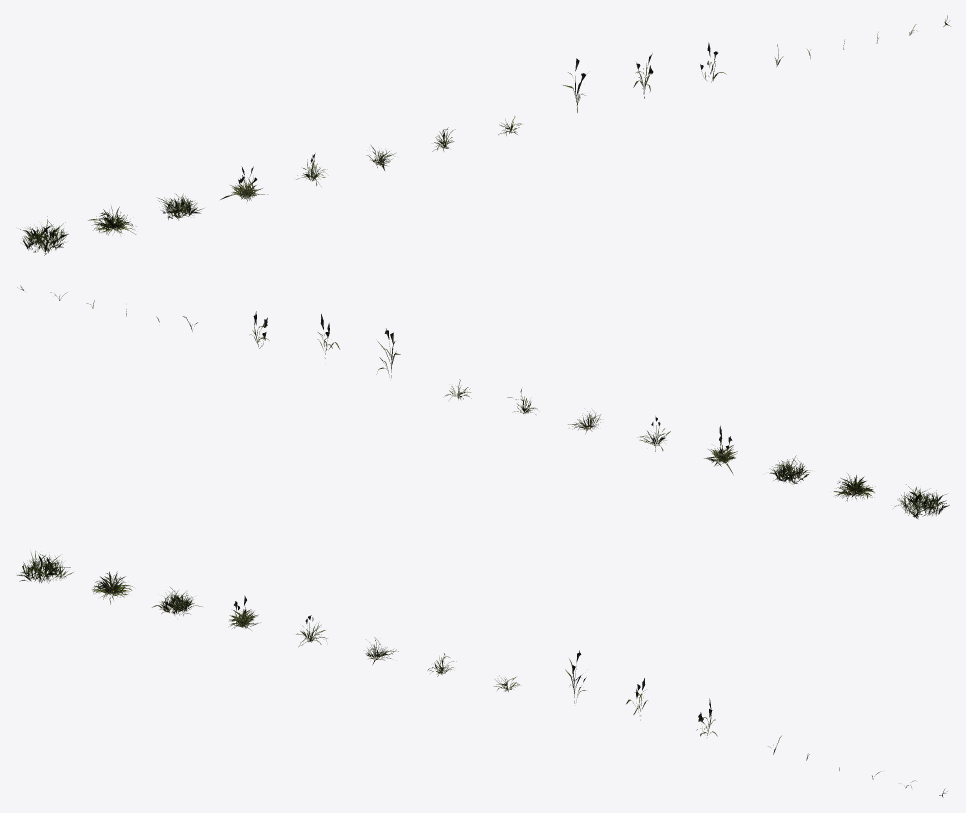
The model's file is grass_medium_01.glb.
3 views of the same model, one above another, from view 1: azimuth 30°, elevation 25°; view 2: azimuth 150°, elevation 25°; view 3: azimuth 330°, elevation 25° (orthographic).
Parts seen in each view (by area): view 1: grass_medium_01_large_a_LOD0, grass_medium_01_large_b_LOD0, grass_medium_01_large_c_LOD0; view 2: grass_medium_01_large_a_LOD0, grass_medium_01_large_c_LOD0, grass_medium_01_large_b_LOD0; view 3: grass_medium_01_large_a_LOD0, grass_medium_01_large_b_LOD0, grass_medium_01_large_c_LOD0.
Boxes of the visible parts, x1,y1,x2,y2 form: grass_medium_01_large_a_LOD0: [20, 216, 68, 255]; grass_medium_01_large_b_LOD0: [88, 206, 136, 235]; grass_medium_01_large_c_LOD0: [157, 193, 203, 220]; grass_medium_01_large_a_LOD0: [893, 484, 949, 519]; grass_medium_01_large_c_LOD0: [769, 455, 810, 484]; grass_medium_01_large_b_LOD0: [833, 473, 875, 501]; grass_medium_01_large_a_LOD0: [17, 551, 73, 583]; grass_medium_01_large_b_LOD0: [92, 571, 132, 604]; grass_medium_01_large_c_LOD0: [152, 587, 202, 615].
Size of the model in its own units: 5.6 by 0.3389 by 0.3266.
Materials: 1 (1 with a texture image).
